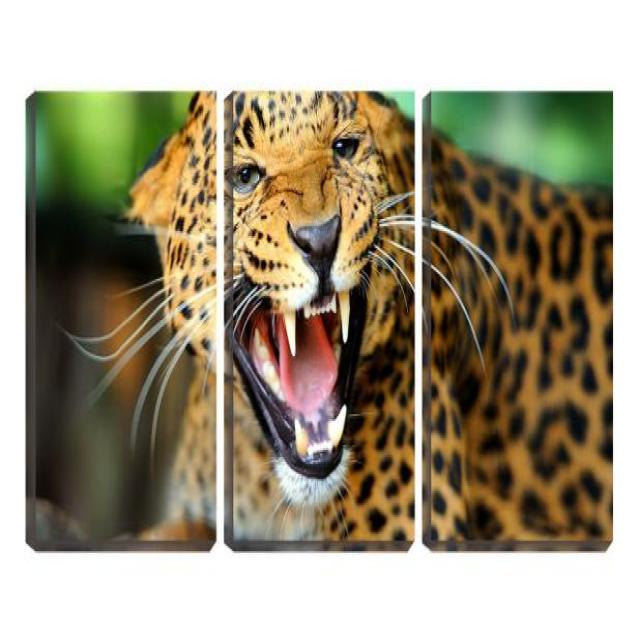Jaguar: (111, 91, 611, 549)
